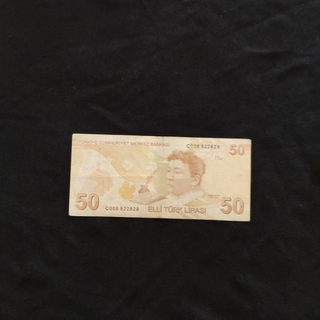50TLBack: (68, 133, 251, 222)
